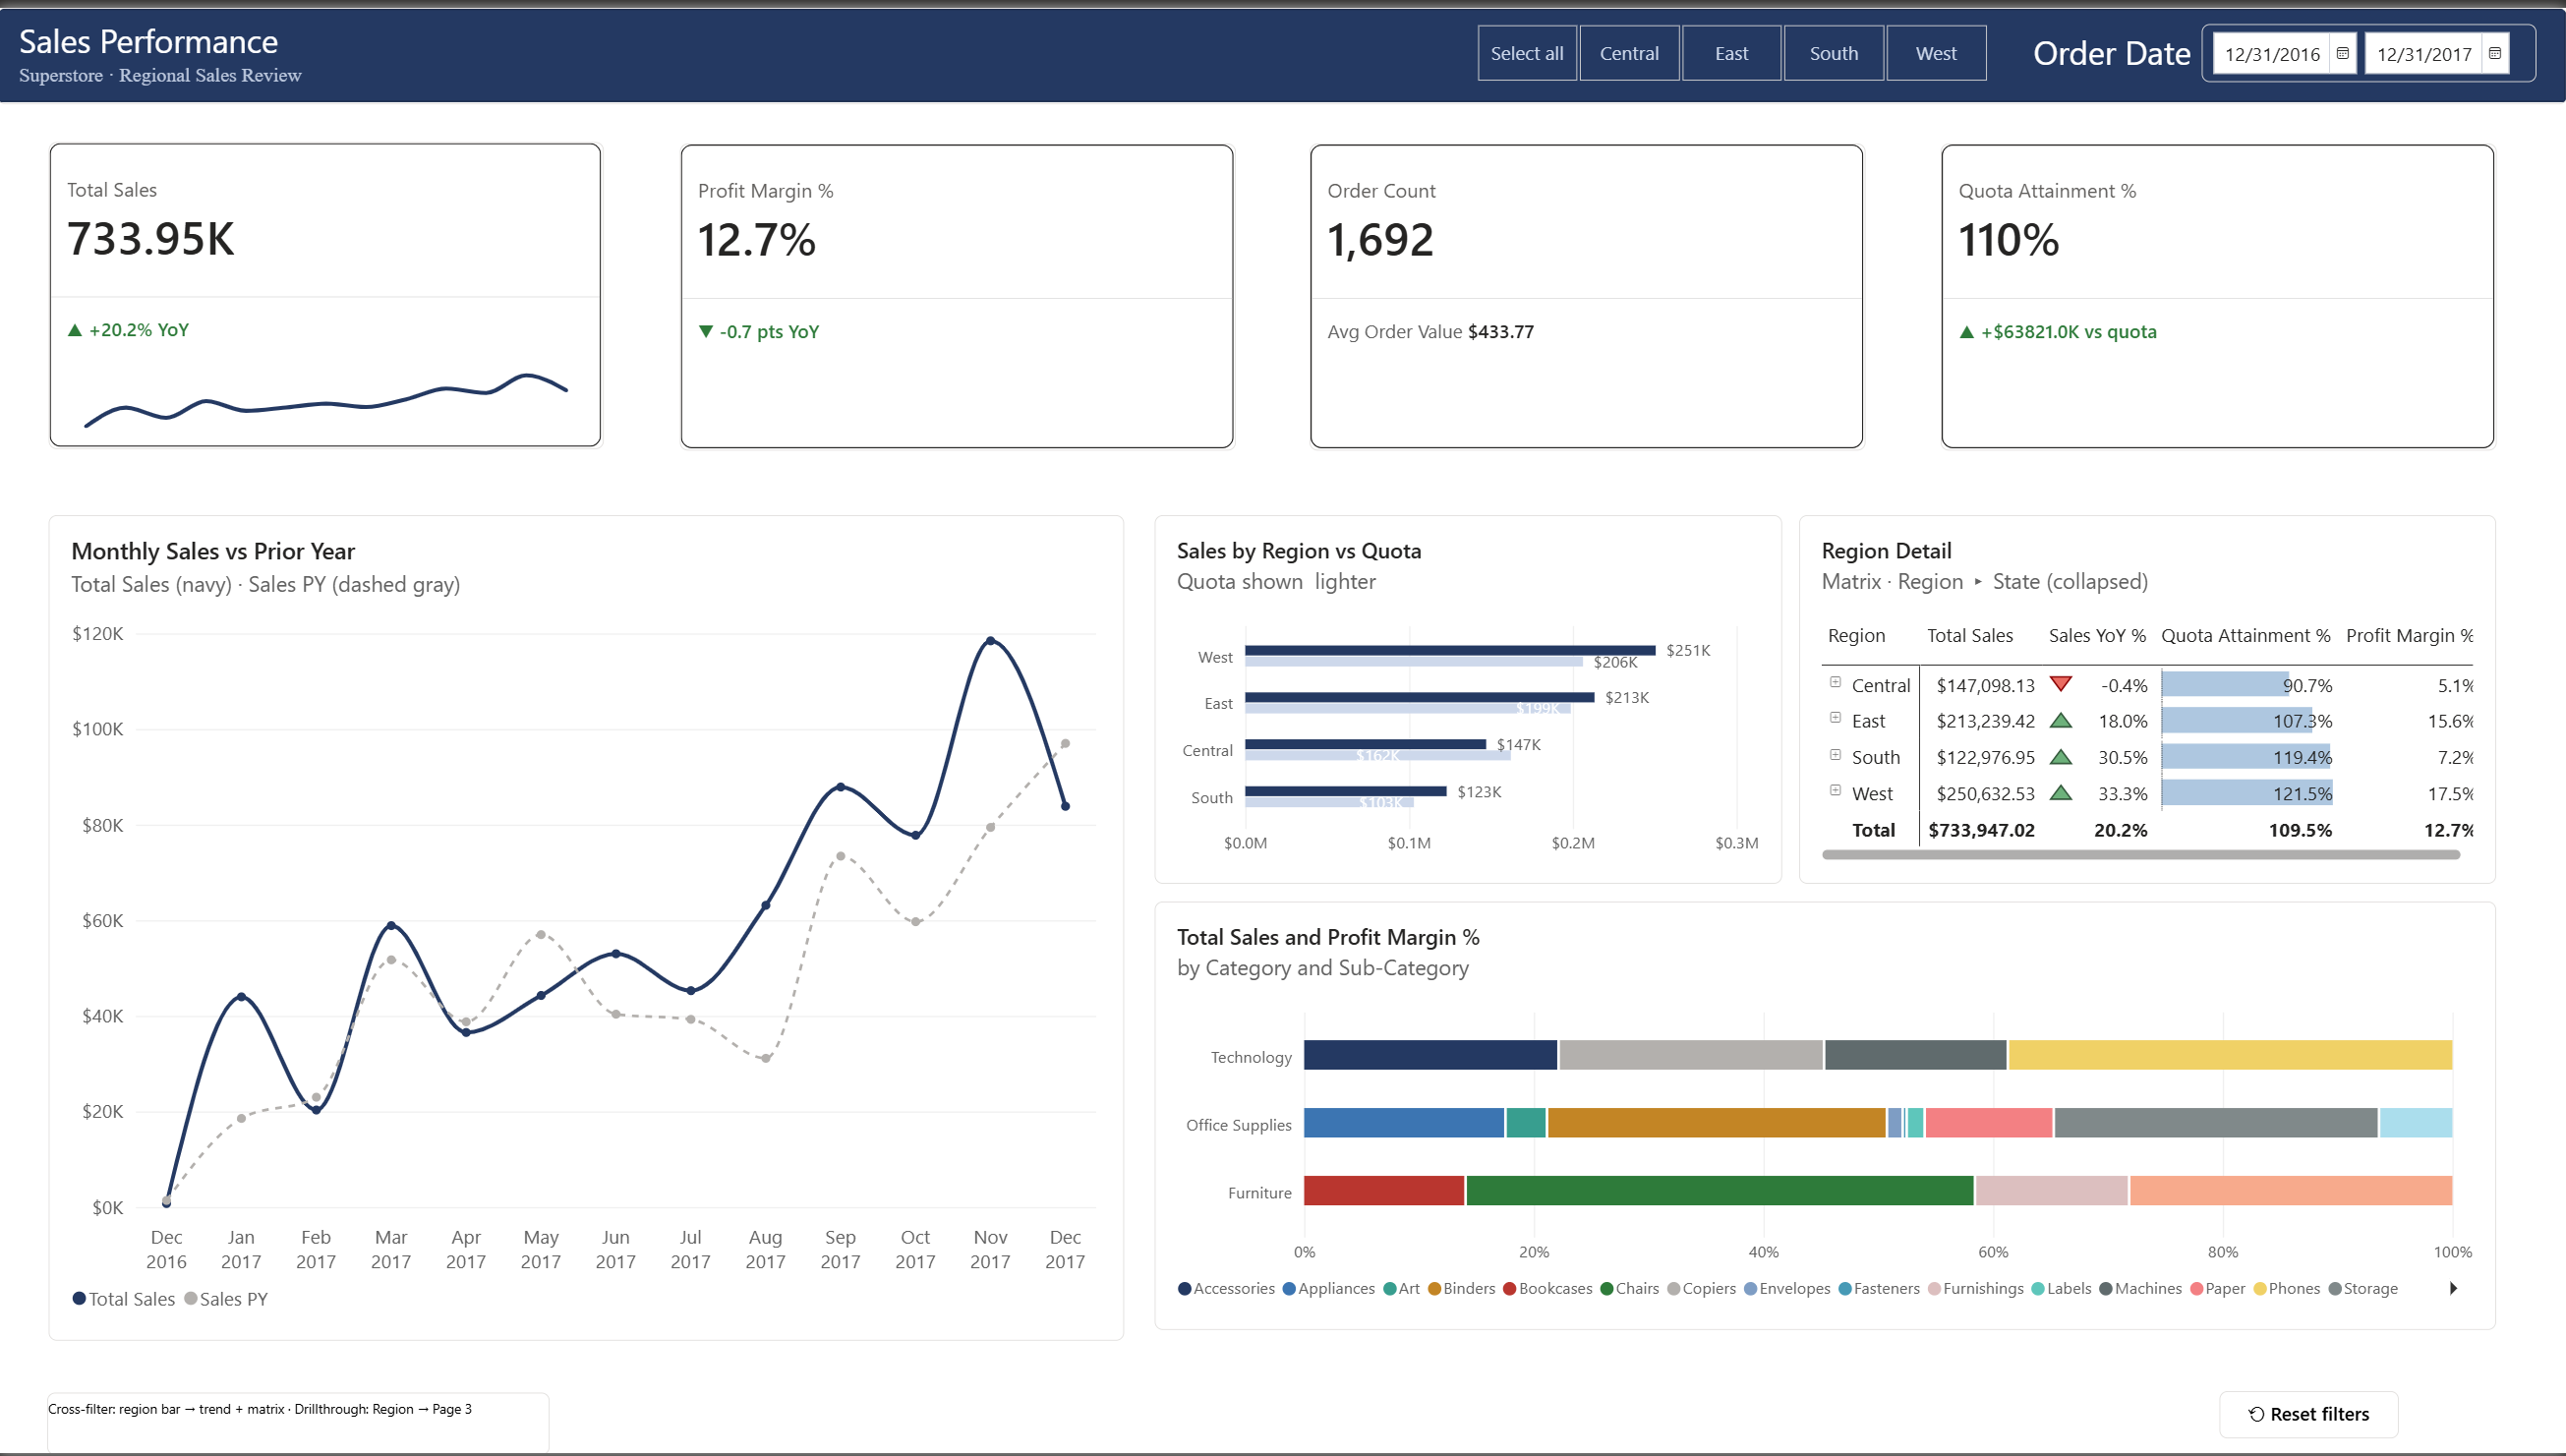

The dashboard page shown, as its layout file describes it:
{"tool":"powerbi","page":{"name":"Sales Performance ","canvas":[1920,1080],"ordinal":0},"visuals":[{"type":"shape","box":[0,0,1920,71.7],"z":0},{"type":"cardVisual","fields":{"Data":["_Measures.Total Sales"]},"box":[38.8,100.7,414.8,229.5],"z":0,"group":"g1"},{"type":"textbox","box":[16,8,460,56],"z":1000},{"type":"lineChart","fields":{"Category":["DimDate.Year-Month Label"],"Y":["_Measures.Total Sales"]},"box":[39.3,241.9,414.5,88.6],"z":1000,"group":"g1"},{"type":"slicer","fields":{"Values":["DimGeography.Region"]},"box":[1085.5,10.8,420,45],"z":2000},{"type":"slicer","title":"Order Date","fields":{"Values":["DimDate.Date"]},"box":[1647.1,12.5,250.2,43.3],"z":3000},{"type":"cardVisual","fields":{"Data":["_Measures.Profit Margin %"]},"box":[509.7,101.5,415,229.1],"z":4000},{"type":"cardVisual","fields":{"Data":["_Measures.Order Count"]},"box":[980.7,101.5,415,229.1],"z":5000},{"type":"cardVisual","fields":{"Data":["_Measures.Quota Attainment %"]},"box":[1451.7,101.5,415,229.1],"z":6000},{"type":"group","id":"g1","title":"Group 1","box":[38.8,100.7,414.9,229.9],"z":7000},{"type":"lineChart","title":"Monthly Sales vs Prior Year","fields":{"Category":["DimDate.Year-Month Label"],"Y":["_Measures.Total Sales","_Measures.Sales PY"]},"box":[38.5,378.8,803.3,616.9],"z":8000},{"type":"clusteredBarChart","title":"Sales by Region vs Quota","fields":{"Category":["DimGeography.Region"],"Y":["_Measures.Total Sales","_Measures.Quota Amount"]},"box":[864.6,378.8,469,275.4],"z":9000},{"type":"pivotTable","title":"Region Detail","fields":{"Rows":["DimGeography.Region","DimGeography.State"],"Values":["_Measures.Total Sales","_Measures.Sales YoY %","_Measures.Quota Attainment %","_Measures.Profit Margin %"]},"box":[1345.6,378.8,520.7,275.4],"z":10000},{"type":"textbox","box":[1521,16.1,127.5,39.7],"z":11000},{"type":"actionButton","box":[1659.7,1033.8,133.8,35.1],"z":12000},{"type":"textbox","box":[38,1034,375.3,46.8],"z":13000},{"type":"hundredPercentStackedBarChart","fields":{"Category":["DimProduct.Category"],"Series":["DimProduct.Sub-Category"],"Y":["_Measures.Total Sales"]},"box":[864.6,667.4,1001.7,319.9],"z":13001}]}

Visuals, with their boxes in screenshot pixels (x1, y1, x2, y2), scaled from the page's 1920x1080 canvas onto the 2566x1456 screenshot:
shape: {"x1": 0, "y1": 0, "x2": 2565, "y2": 96}
cardVisual - _Measures.Total Sales: {"x1": 52, "y1": 136, "x2": 607, "y2": 445}
textbox: {"x1": 22, "y1": 11, "x2": 636, "y2": 87}
lineChart - DimDate.Year-Month Label x _Measures.Total Sales: {"x1": 52, "y1": 326, "x2": 607, "y2": 445}
slicer - DimGeography.Region: {"x1": 1451, "y1": 15, "x2": 2012, "y2": 76}
"Order Date" slicer: {"x1": 2201, "y1": 17, "x2": 2536, "y2": 76}
cardVisual - _Measures.Profit Margin %: {"x1": 681, "y1": 137, "x2": 1236, "y2": 445}
cardVisual - _Measures.Order Count: {"x1": 1311, "y1": 137, "x2": 1865, "y2": 445}
cardVisual - _Measures.Quota Attainment %: {"x1": 1940, "y1": 137, "x2": 2495, "y2": 445}
"Group 1" group: {"x1": 52, "y1": 136, "x2": 607, "y2": 445}
"Monthly Sales vs Prior Year" lineChart: {"x1": 51, "y1": 510, "x2": 1125, "y2": 1342}
"Sales by Region vs Quota" clusteredBarChart: {"x1": 1155, "y1": 510, "x2": 1782, "y2": 882}
"Region Detail" pivotTable: {"x1": 1798, "y1": 510, "x2": 2494, "y2": 882}
textbox: {"x1": 2033, "y1": 22, "x2": 2203, "y2": 76}
actionButton: {"x1": 2218, "y1": 1394, "x2": 2397, "y2": 1441}
textbox: {"x1": 51, "y1": 1394, "x2": 553, "y2": 1455}
hundredPercentStackedBarChart - DimProduct.Category x DimProduct.Sub-Category: {"x1": 1155, "y1": 900, "x2": 2494, "y2": 1331}
